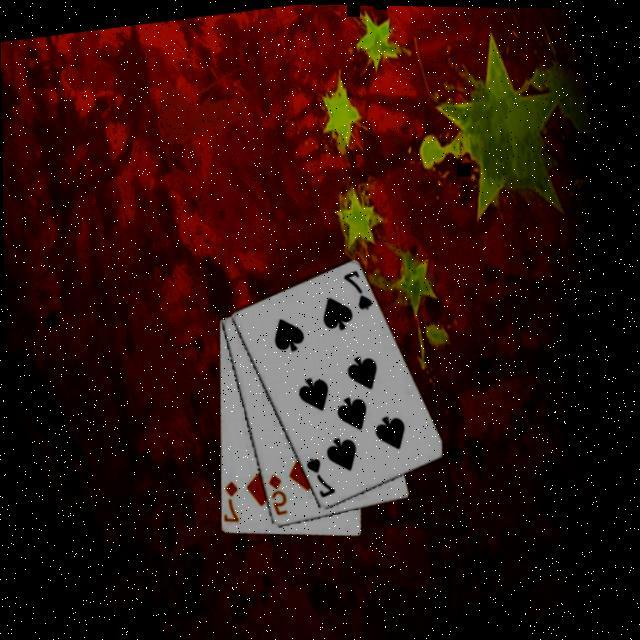5D: (264, 468, 292, 516)
7D: (216, 476, 246, 525)
7S: (302, 450, 339, 500), (340, 264, 377, 314)
